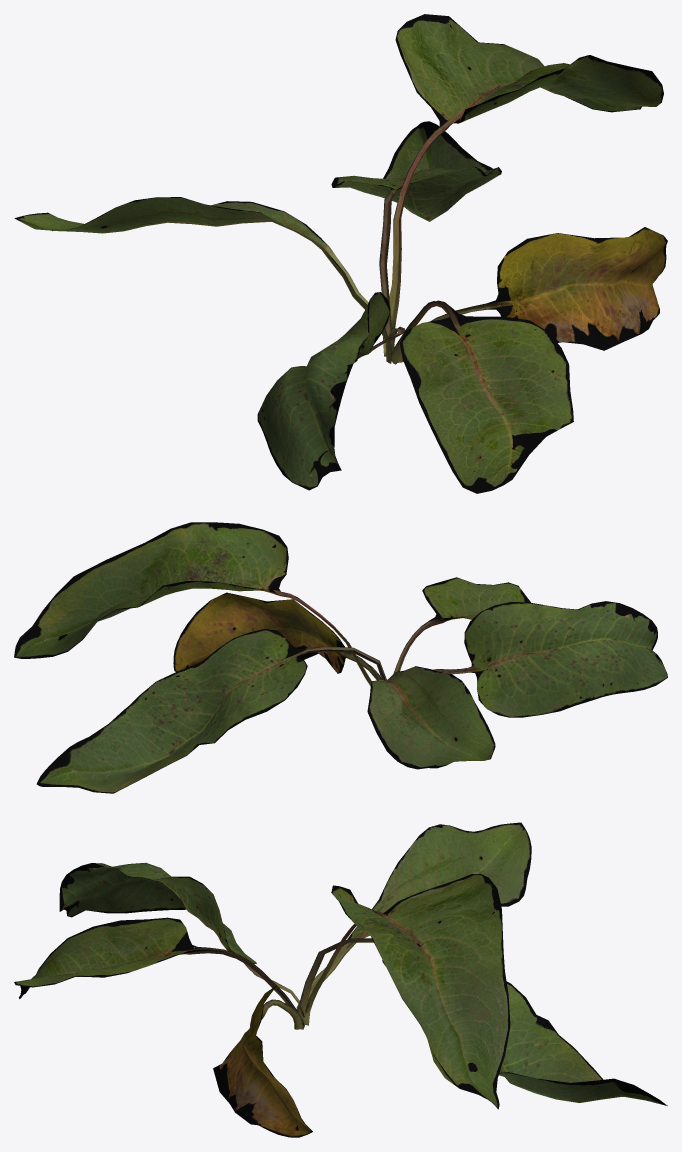
The model's file is weed_plant_02_b.gltf.
The picture shows the model from 3 angles, top to bottom: view 1: azimuth 30°, elevation 25°; view 2: azimuth 150°, elevation 25°; view 3: azimuth 270°, elevation 25°; orthographic projection. The views are drawn at different scales.
Visible parts, largest first — view 1: weed_plant_02_b_LOD0; view 2: weed_plant_02_b_LOD0; view 3: weed_plant_02_b_LOD0.
Part boxes in pixels (x1=…): weed_plant_02_b_LOD0: x1=14, y1=14, x2=667, y2=493; weed_plant_02_b_LOD0: x1=14, y1=522, x2=667, y2=793; weed_plant_02_b_LOD0: x1=14, y1=822, x2=667, y2=1137.
Size of the model in its own units: 0.1875 by 0.0677 by 0.1985.
Materials: 1 (1 with a texture image).
